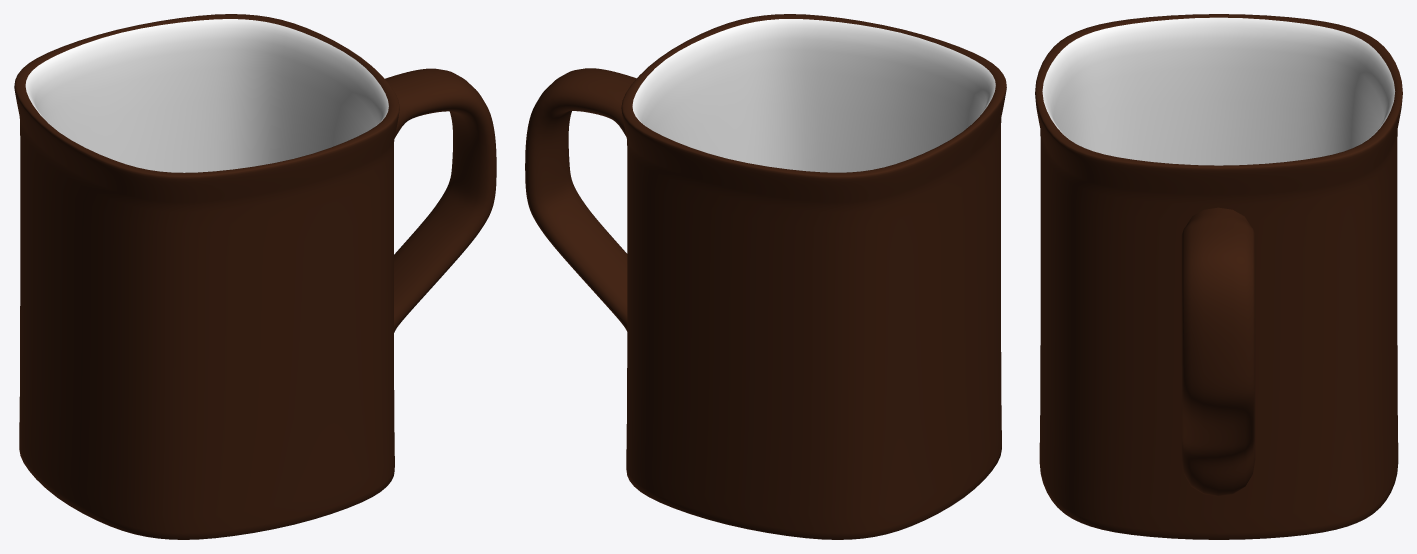
3 renders of one model, left to right at view 1: azimuth 30°, elevation 25°; view 2: azimuth 150°, elevation 25°; view 3: azimuth 270°, elevation 25°, orthographic. The views are drawn at different scales.
Parts seen in each view (by area): view 1: mesh1-geometry-0, mesh1-geometry-2, mesh2-geometry-0; view 2: mesh1-geometry-0, mesh1-geometry-2, mesh2-geometry-0; view 3: mesh1-geometry-0, mesh1-geometry-2, mesh2-geometry-0.
Boxes of the visible parts, x1,y1,x2,y2 form: mesh1-geometry-0: (14,14,399,539); mesh1-geometry-2: (25,19,388,172); mesh2-geometry-0: (385,68,496,332); mesh1-geometry-0: (621,14,1006,539); mesh1-geometry-2: (632,19,995,172); mesh2-geometry-0: (525,68,636,331); mesh1-geometry-0: (1035,14,1402,539); mesh1-geometry-2: (1042,17,1395,165); mesh2-geometry-0: (1181,207,1255,496).
Bounding box in the file's own units: 0.6785 × 0.55 × 0.4869.
